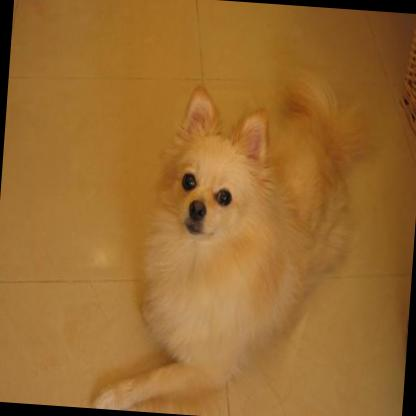Pomeranian: (91, 56, 364, 416)
